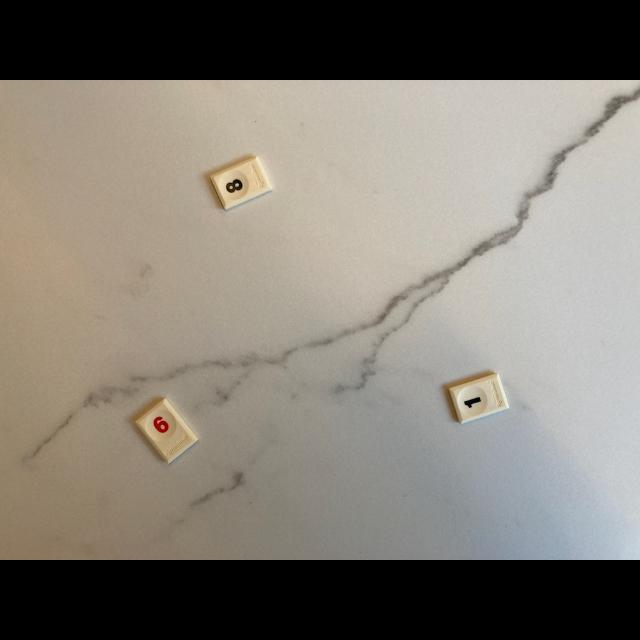black_1: (449, 374, 509, 424)
black_8: (211, 156, 272, 210)
red_6: (136, 399, 198, 462)
